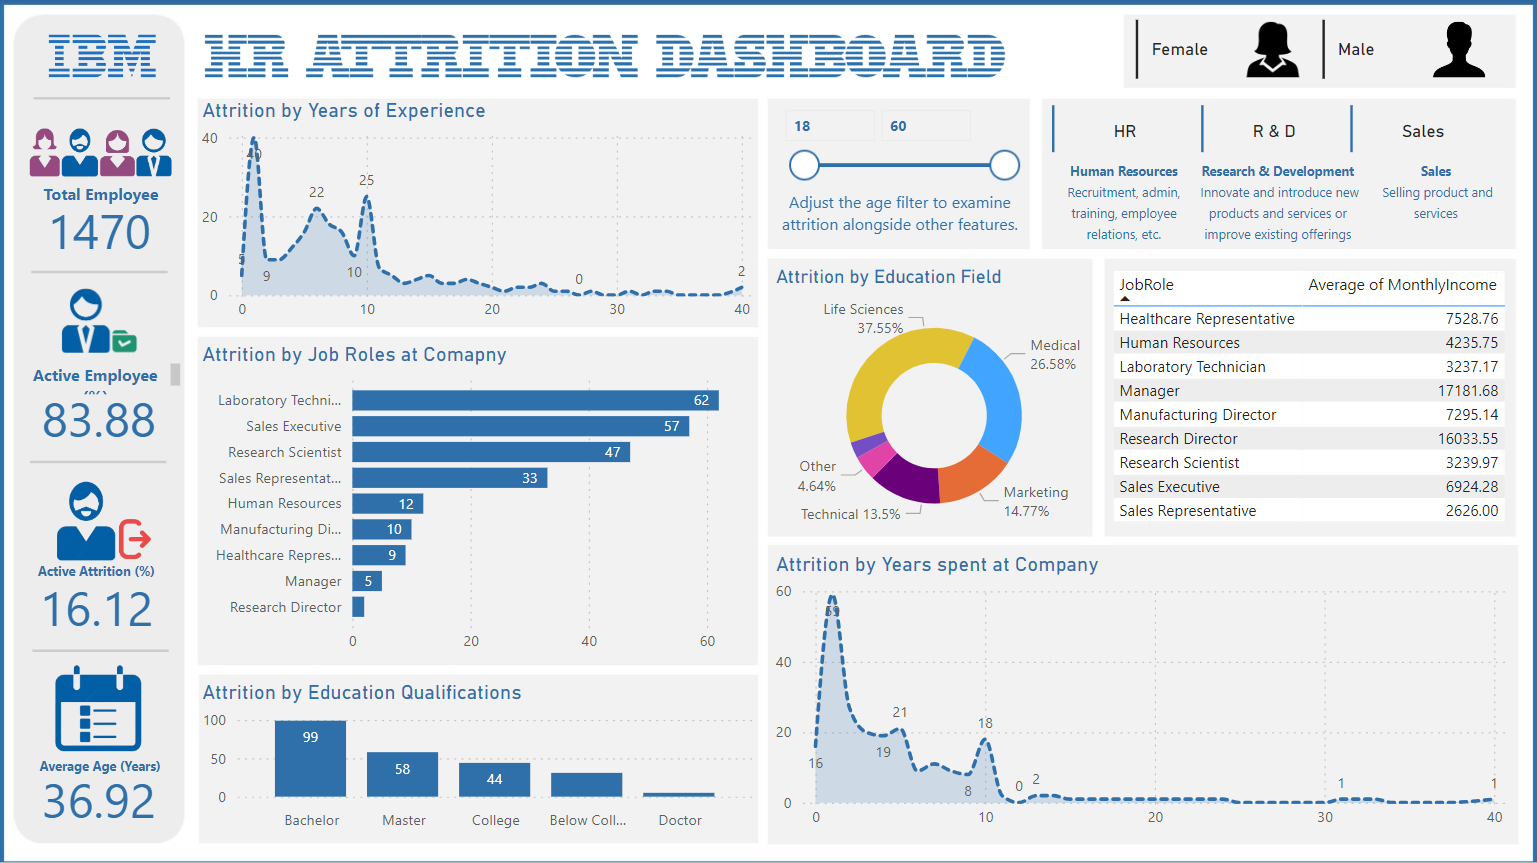

The page's visual inventory and layout, read from the dashboard file:
{"tool":"powerbi","page":{"name":"Dashboard","canvas":[1280,720],"ordinal":0},"visuals":[{"type":"columnChart","title":"Attrition by Education Qualifications","fields":{"Category":["HR.Education"],"Y":["Sum(HR.YesAttrition)"]},"box":[163.2,566.4,468.7,132],"z":0},{"type":"tableEx","title":"Attrition by Departments","fields":{"Values":["HR.JobRole","Avg(HR.MonthlyIncome)"]},"box":[920,221.2,338.1,238.1],"z":1000},{"type":"advancedSlicerVisual","fields":{"Values":["HR.Gender"]},"box":[939.5,12.5,312.8,59.2],"z":2000},{"type":"clusteredBarChart","title":"Attrition by Job Roles at Comapny","fields":{"Category":["HR.JobRole"],"Y":["Sum(HR.YesAttrition)"]},"box":[163.2,284.8,468.7,267.1],"z":3000},{"type":"lineChart","title":"Attrition by Years of Experience","fields":{"Category":["HR.TotalWorkingYears"],"Y":["Sum(HR.YesAttrition)"]},"box":[163.2,82.1,468.7,194.3],"z":4000},{"type":"donutChart","title":"Attrition by Education Field","fields":{"Category":["HR.EducationField"],"Y":["Sum(HR.YesAttrition)"]},"box":[640.2,221.4,273.3,232.8],"z":5000},{"type":"advancedSlicerVisual","fields":{"Values":["HR.Department"]},"box":[870,88.2,381.8,46.4],"z":6000},{"type":"lineChart","title":"Attrition by Years spent at Company","fields":{"Category":["HR.YearsAtCompany"],"Y":["Sum(HR.YesAttrition)"]},"box":[640.2,459.4,617.3,239],"z":7000},{"type":"slicer","fields":{"Values":["HR.Age"]},"box":[640,82,216,124],"z":8000},{"type":"shape","box":[11.6,88.3,143,621.4],"z":9000},{"type":"image","box":[19.4,100.9,128.3,53.6],"z":10000},{"type":"card","fields":{"Values":["Sum(WA_Fn-UseC_-HR-Employee-Attrition.EmployeeCount)"]},"box":[21.2,169.4,123.8,45],"z":11000},{"type":"textbox","box":[19.4,147.2,128.3,33.6],"z":12000},{"type":"image","box":[26,236,113,63],"z":13000},{"type":"textbox","box":[11.4,298.3,143.4,35.3],"z":14000},{"type":"card","fields":{"Values":["HR.NoAttrition"]},"box":[22,326,121,44],"z":15000},{"type":"image","box":[26,396,120,76],"z":16000},{"type":"textbox","box":[16,460,129,30],"z":17000},{"type":"card","fields":{"Values":["HR.YesAttrition"]},"box":[24,483,113,45],"z":18000},{"type":"image","box":[40.4,548.6,82.5,82.5],"z":19000},{"type":"textbox","box":[19.8,622.9,126.9,30],"z":20000},{"type":"card","fields":{"Values":["Avg(HR.Age)"]},"box":[24.2,643.6,116.9,43.8],"z":21000},{"type":"textbox","box":[870,128.2,129.1,86.4],"z":22000},{"type":"textbox","box":[984.5,128.2,156.4,92.7],"z":23000},{"type":"textbox","box":[1130,128.2,128.2,92.7],"z":24000},{"type":"image","box":[27.1,25,115.7,45],"z":25000},{"type":"shape","box":[25.6,220,113.3,13.3],"z":26000},{"type":"shape","box":[24.4,377.8,113.3,13.3],"z":27000},{"type":"shape","box":[26.7,535.6,113.3,13.3],"z":28000},{"type":"shape","box":[27.8,75.6,113.3,13.3],"z":29000},{"type":"textbox","box":[640.2,154.9,216.2,50.9],"z":31000},{"type":"image","box":[165,22.1,675.7,50.7],"z":31001}]}

Visuals, with their boxes in screenshot pixels (x1, y1, x2, y2), scaled from the page's 1280x720 canvas onto the 1537x863 screenshot:
"Attrition by Education Qualifications" columnChart: [left=196, top=679, right=759, bottom=837]
"Attrition by Departments" tableEx: [left=1105, top=265, right=1511, bottom=551]
advancedSlicerVisual - HR.Gender: [left=1128, top=15, right=1504, bottom=86]
"Attrition by Job Roles at Comapny" clusteredBarChart: [left=196, top=341, right=759, bottom=662]
"Attrition by Years of Experience" lineChart: [left=196, top=98, right=759, bottom=331]
"Attrition by Education Field" donutChart: [left=769, top=265, right=1097, bottom=544]
advancedSlicerVisual - HR.Department: [left=1045, top=106, right=1503, bottom=161]
"Attrition by Years spent at Company" lineChart: [left=769, top=551, right=1510, bottom=837]
slicer - HR.Age: [left=768, top=98, right=1028, bottom=247]
shape: [left=14, top=106, right=186, bottom=851]
image: [left=23, top=121, right=177, bottom=185]
card - Sum(WA_Fn-UseC_-HR-Employee-Attrition.EmployeeCount): [left=25, top=203, right=174, bottom=257]
textbox: [left=23, top=176, right=177, bottom=217]
image: [left=31, top=283, right=167, bottom=358]
textbox: [left=14, top=358, right=186, bottom=400]
card - HR.NoAttrition: [left=26, top=391, right=172, bottom=443]
image: [left=31, top=475, right=175, bottom=566]
textbox: [left=19, top=551, right=174, bottom=587]
card - HR.YesAttrition: [left=29, top=579, right=165, bottom=633]
image: [left=49, top=658, right=148, bottom=756]
textbox: [left=24, top=747, right=176, bottom=783]
card - Avg(HR.Age): [left=29, top=771, right=169, bottom=824]
textbox: [left=1045, top=154, right=1200, bottom=257]
textbox: [left=1182, top=154, right=1370, bottom=265]
textbox: [left=1357, top=154, right=1511, bottom=265]
image: [left=33, top=30, right=171, bottom=84]
shape: [left=31, top=264, right=167, bottom=280]
shape: [left=29, top=453, right=165, bottom=469]
shape: [left=32, top=642, right=168, bottom=658]
shape: [left=33, top=91, right=169, bottom=107]
textbox: [left=769, top=186, right=1028, bottom=247]
image: [left=198, top=26, right=1009, bottom=87]
